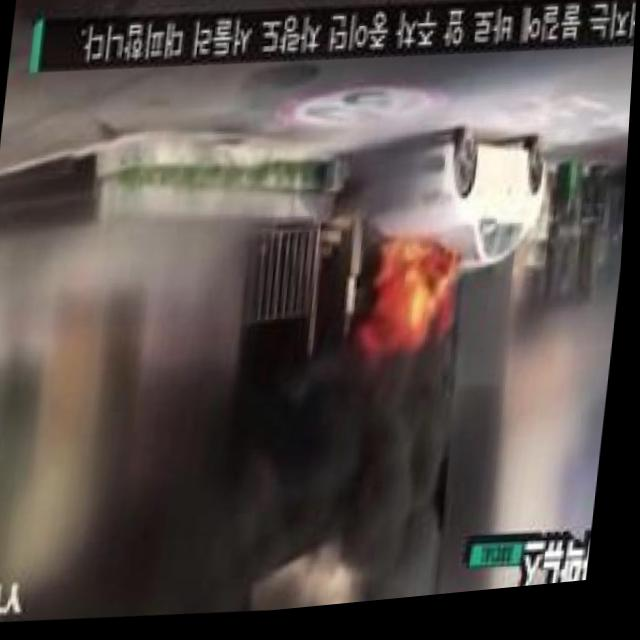Fire: (370, 251, 456, 354)
